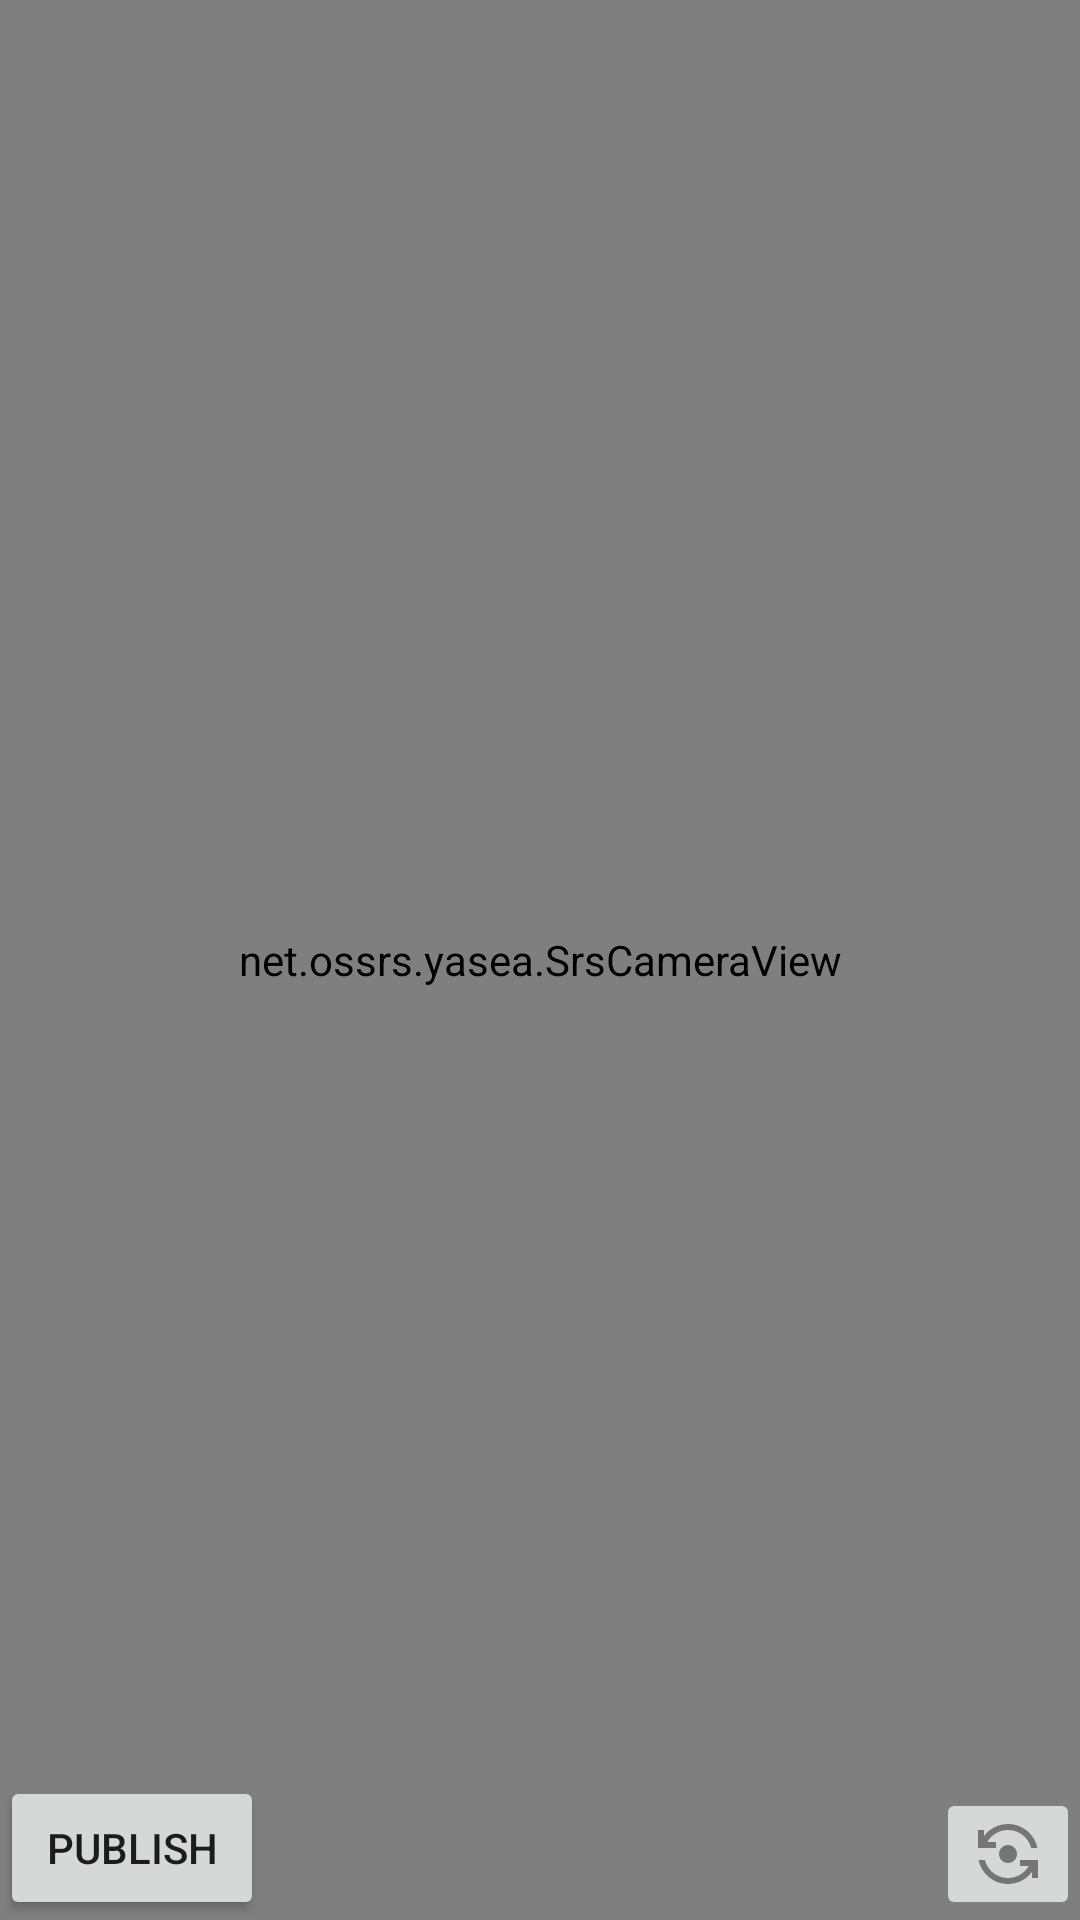

Icons on this 1080x1920 Android screen, each with the point to tap as (x,y):
switch cam: (1008,1854)
